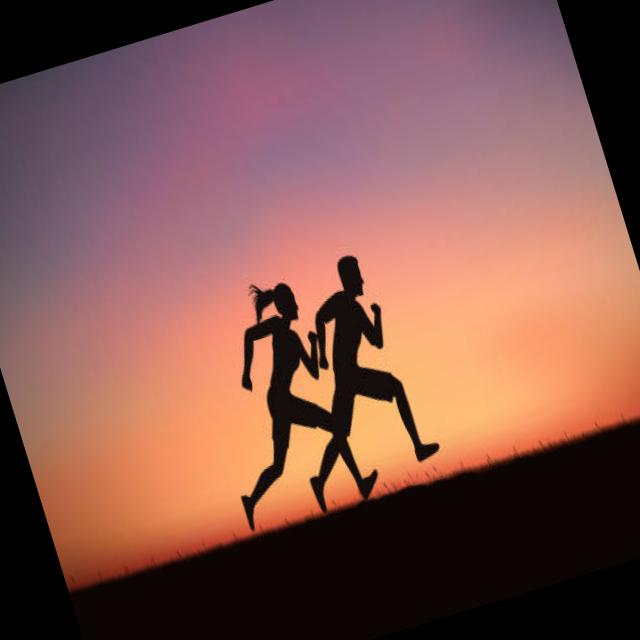Person: (181, 264, 384, 534), (250, 244, 448, 514)
